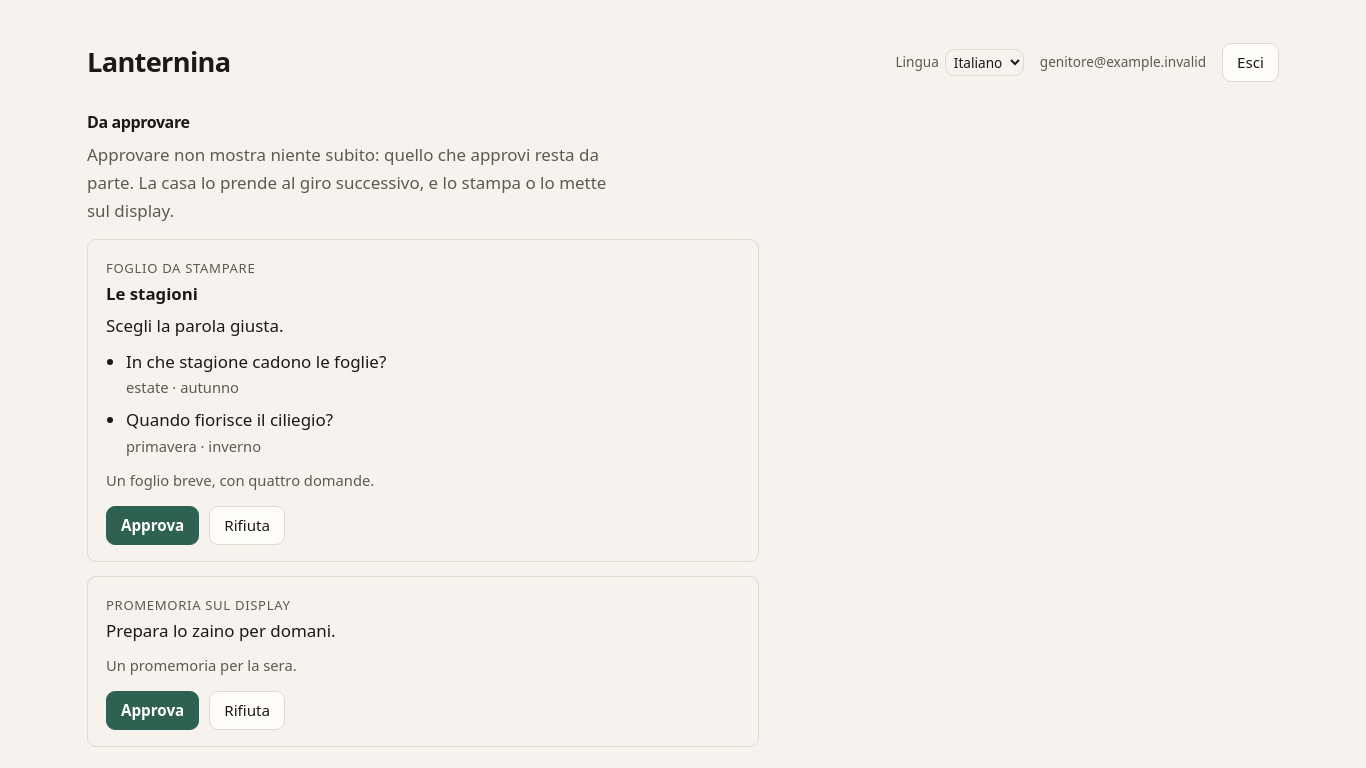
to approve › records the decision and takes the proposal off the list
The image size is (1366, 768).
expect the heading "Le stagioni" is shown: met, box [106,282,198,305]
Click the button "Approva" below "Un foglio breve, con quattro domande.": coordinates (153, 526) [106,506,199,545]
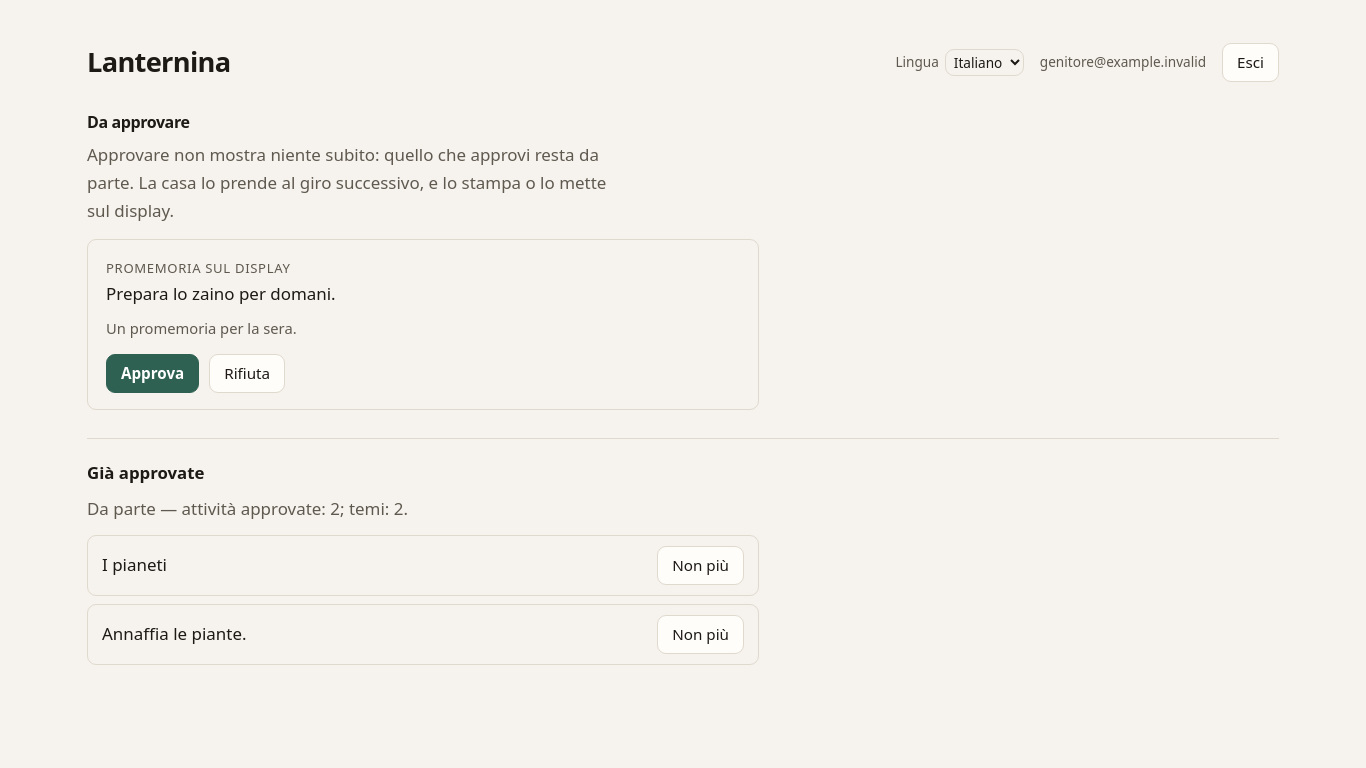
expect the text "Prepara lo zaino per domani." is shown: met, box [106,282,336,305]
expect the heading "Le stagioni" is gone: met
